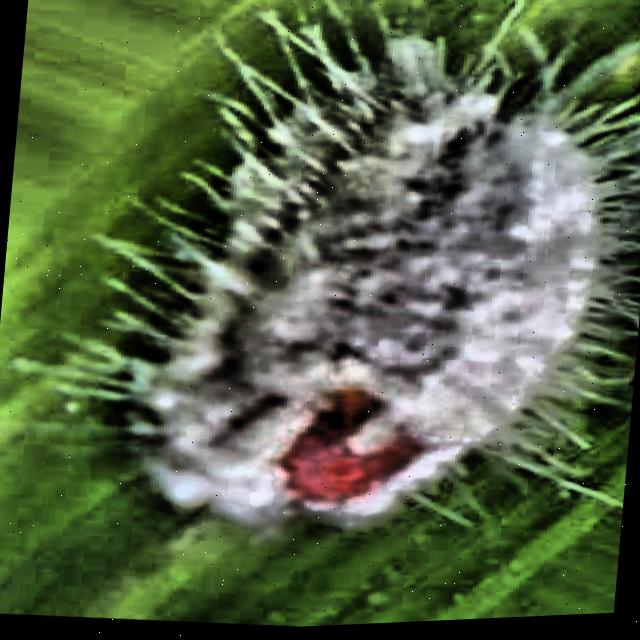Mealy-bug: (60, 0, 640, 592)
